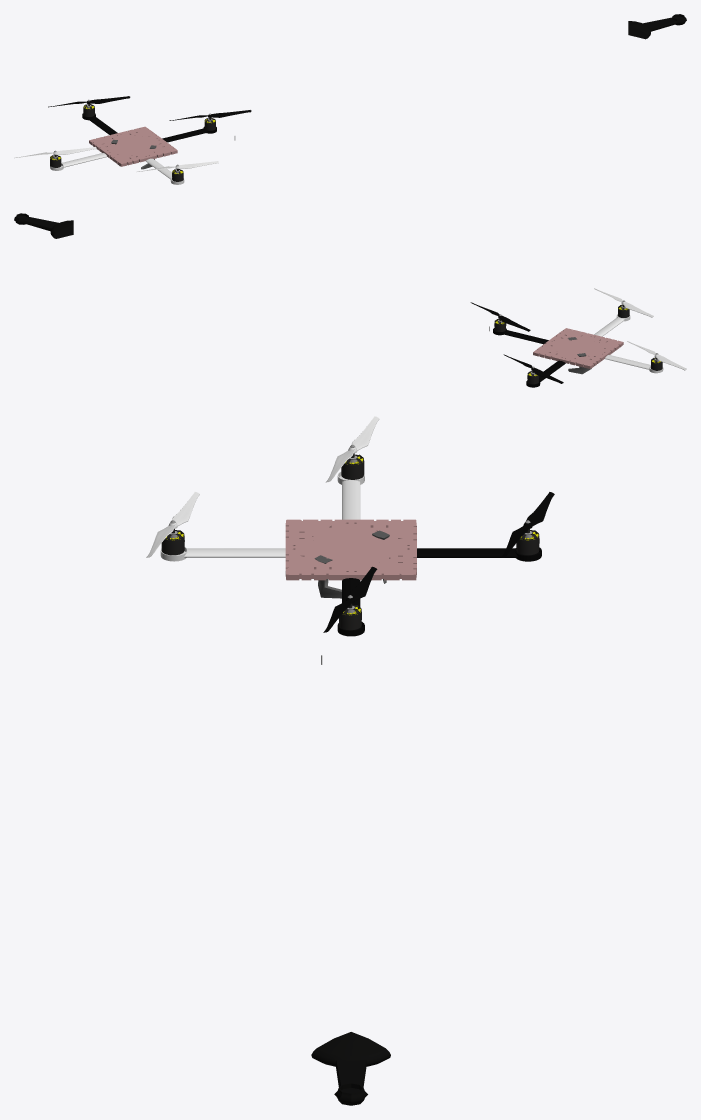
The model's file is uav10.fbx.
3 renders of one model, top to bottom at view 1: azimuth 30°, elevation 25°; view 2: azimuth 150°, elevation 25°; view 3: azimuth 270°, elevation 25°, orthographic. The views are drawn at different scales.
Parts seen in each view (by area): view 1: pCube56, pCylinder9, pCylinder115, pCylinder116; view 2: pCube56, pCylinder9, pCylinder115, pCylinder116; view 3: pCube56, pCylinder9, pCylinder114, pCylinder117.
Part boxes in pixels (box(x1,y1,x2,y2)): pCube56: box(89, 126, 177, 166); pCylinder9: box(628, 14, 686, 39); pCylinder115: box(50, 153, 107, 170); pCylinder116: box(162, 126, 216, 142); pCube56: box(533, 328, 623, 368); pCylinder9: box(14, 213, 73, 238); pCylinder115: box(605, 355, 663, 373); pCylinder116: box(493, 328, 548, 344); pCube56: box(285, 519, 416, 580); pCylinder9: box(311, 1032, 390, 1105); pCylinder114: box(160, 547, 285, 561); pCylinder117: box(417, 547, 541, 561).
Bounding box in the file's own units: 145 × 6.64 × 38.53.
